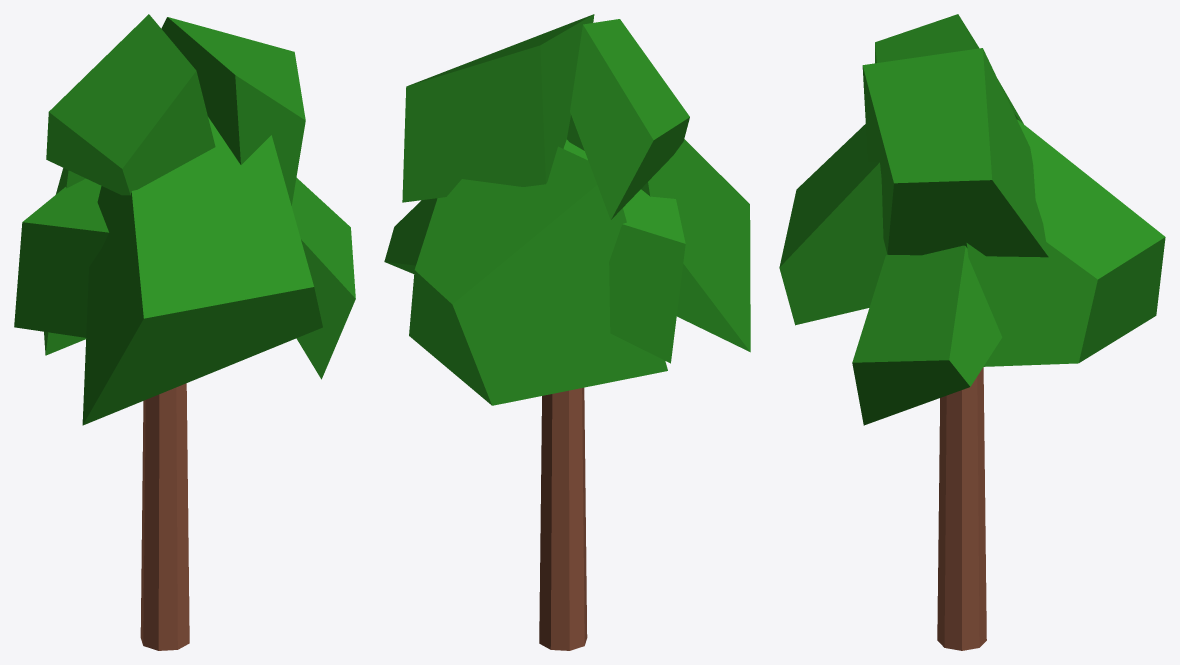
The model's file is tree2.glb.
The picture shows the model from 3 angles, left to right: view 1: azimuth 30°, elevation 25°; view 2: azimuth 150°, elevation 25°; view 3: azimuth 270°, elevation 25°; orthographic projection. The views are drawn at different scales.
Parts seen in each view (by area): view 1: Tree_41_summer; view 2: Tree_41_summer; view 3: Tree_41_summer.
Boxes of the visible parts, x1=… form: Tree_41_summer: x1=14, y1=14, x2=355, y2=650; Tree_41_summer: x1=384, y1=14, x2=750, y2=650; Tree_41_summer: x1=779, y1=14, x2=1165, y2=650.
Bounding box in the file's own units: 1.2 × 2.29 × 1.3.
1 material, 1 textured.
